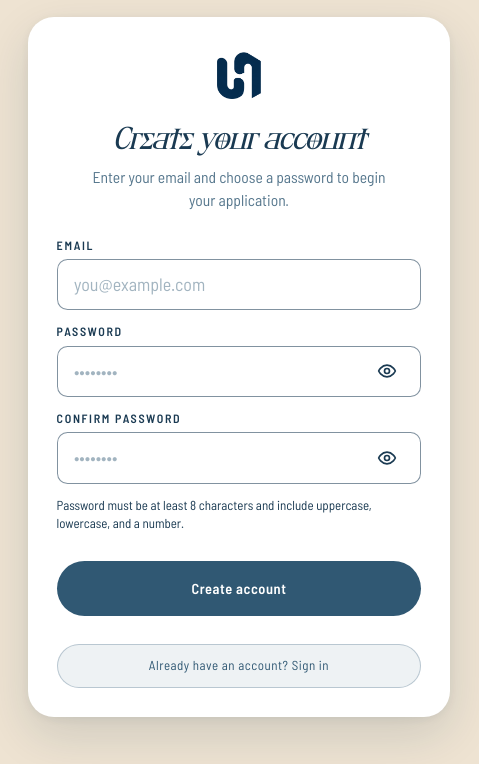
Scenario: SignInPage with Convex auth: sign up and verification › creates the account with a normalised email and moves to OTP verification
Type " New@Example.COM " into the field labelled "Email" at coordinates (239, 285), box [57, 259, 421, 310]
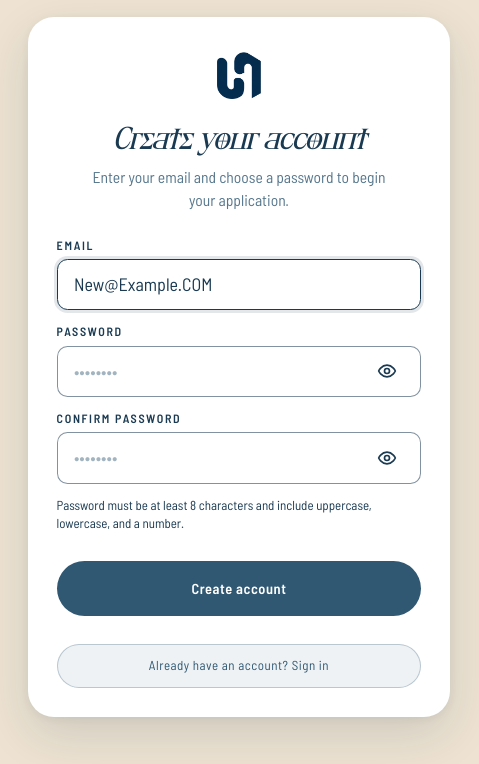
Type "Hackuta1" into the password field labelled "Password" at coordinates (239, 371), box [57, 346, 421, 397]
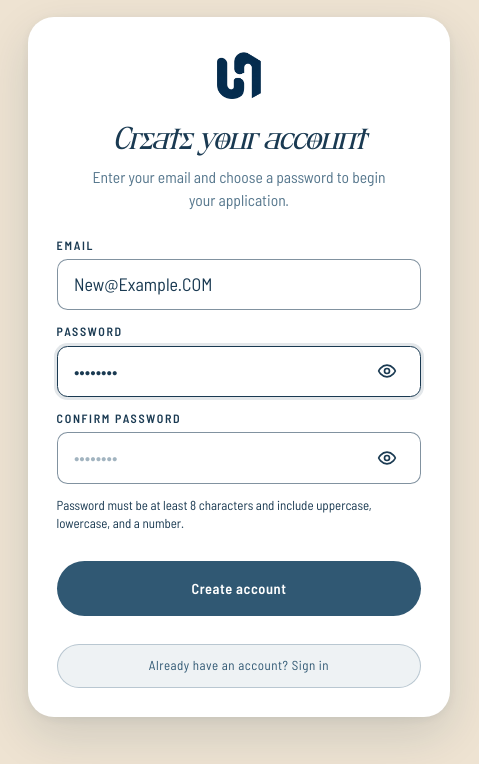
Type "Hackuta1" into the password field labelled "Confirm password" at coordinates (239, 458), box [57, 432, 421, 484]
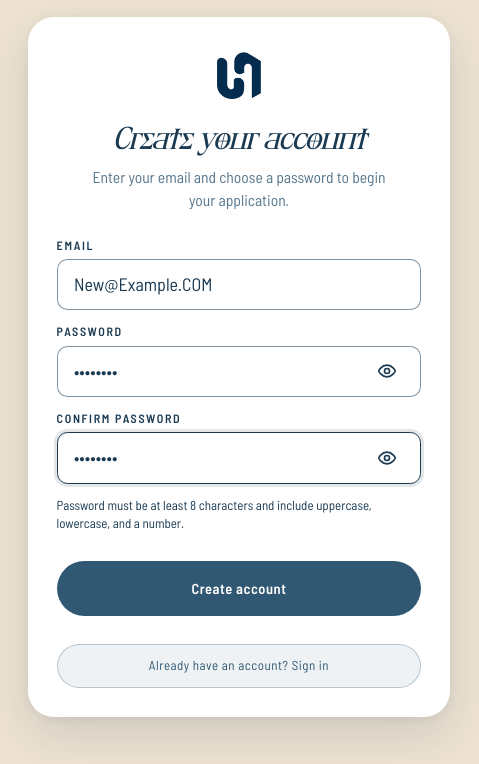
Click the button "Create account" at coordinates (239, 589), box [57, 561, 421, 616]
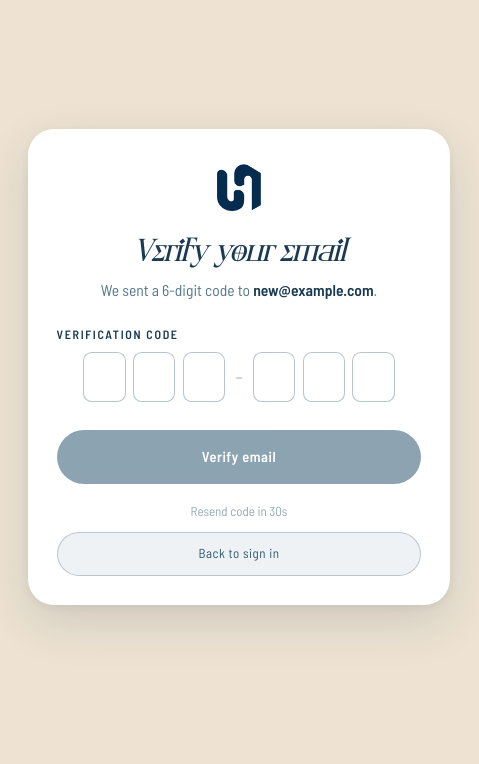
Check: the heading "Verify your email" is shown, box [133, 235, 345, 268]
Check: the text "new@example.com" is shown, box [253, 280, 374, 298]
Check: the button "Resend code in 30s" is disabled, box [57, 502, 421, 521]
